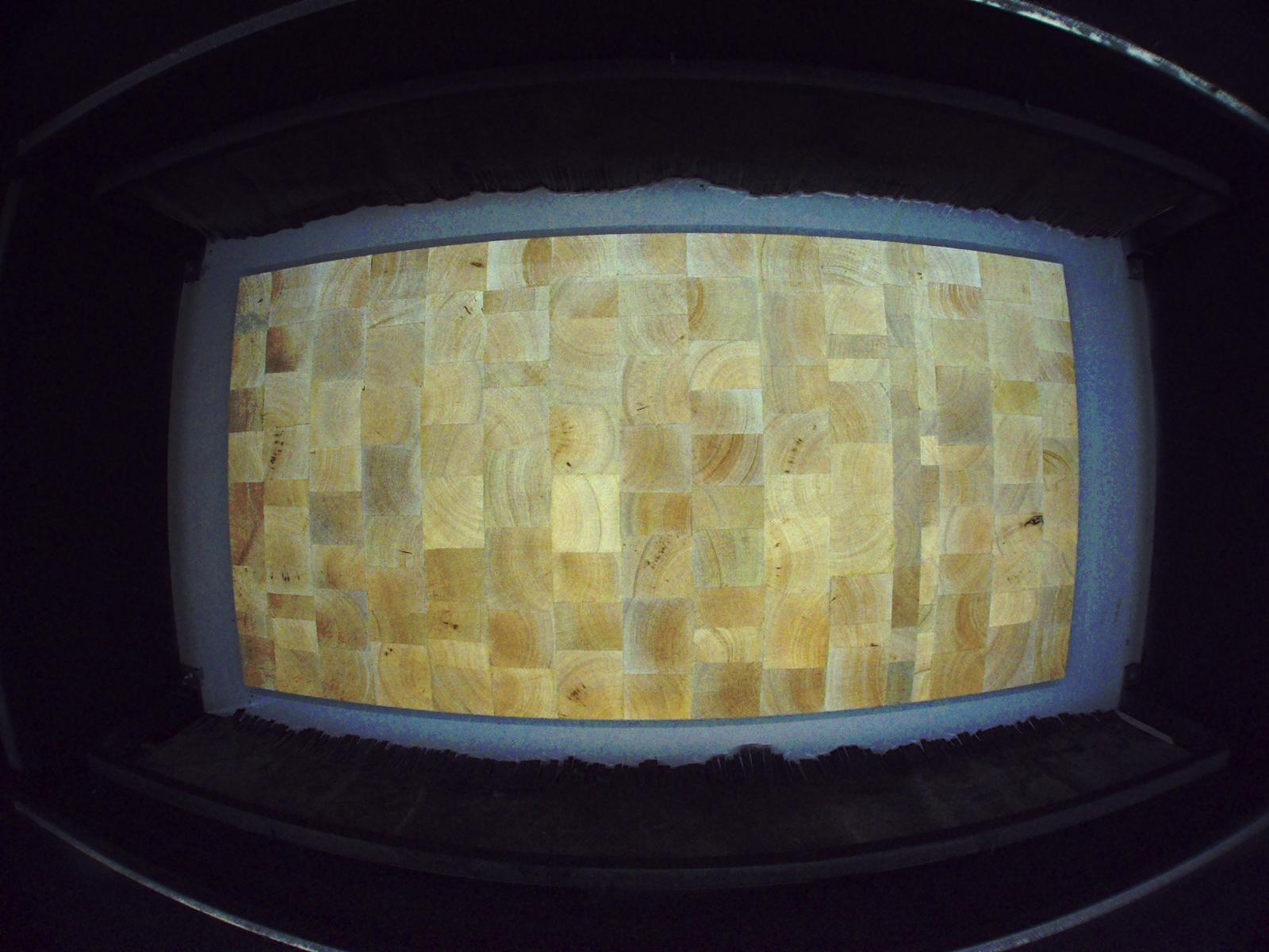nudillo: (1022, 513, 1045, 531)
